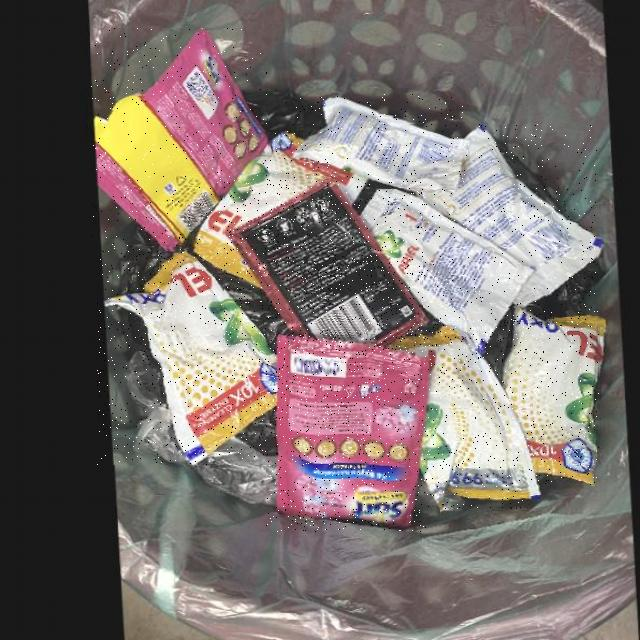wrapper: (91, 29, 268, 250), (98, 251, 270, 465), (410, 125, 597, 308), (224, 179, 423, 346), (266, 333, 426, 532), (355, 189, 528, 353), (378, 326, 533, 509), (190, 132, 363, 289), (495, 305, 599, 485), (286, 94, 465, 193)
